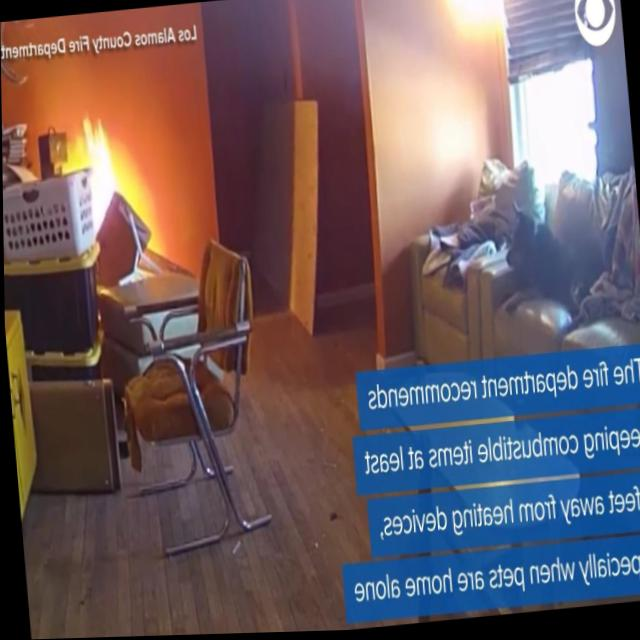fire: (64, 112, 121, 248)
